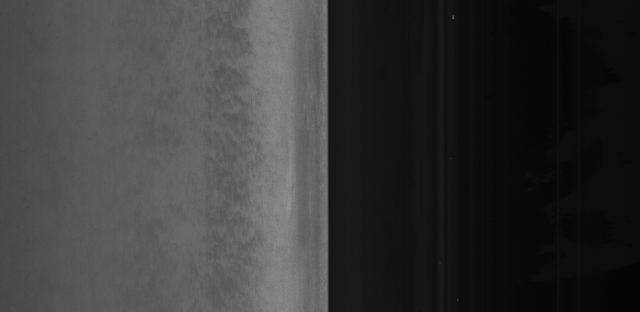silk_spot: (193, 69, 272, 308)
